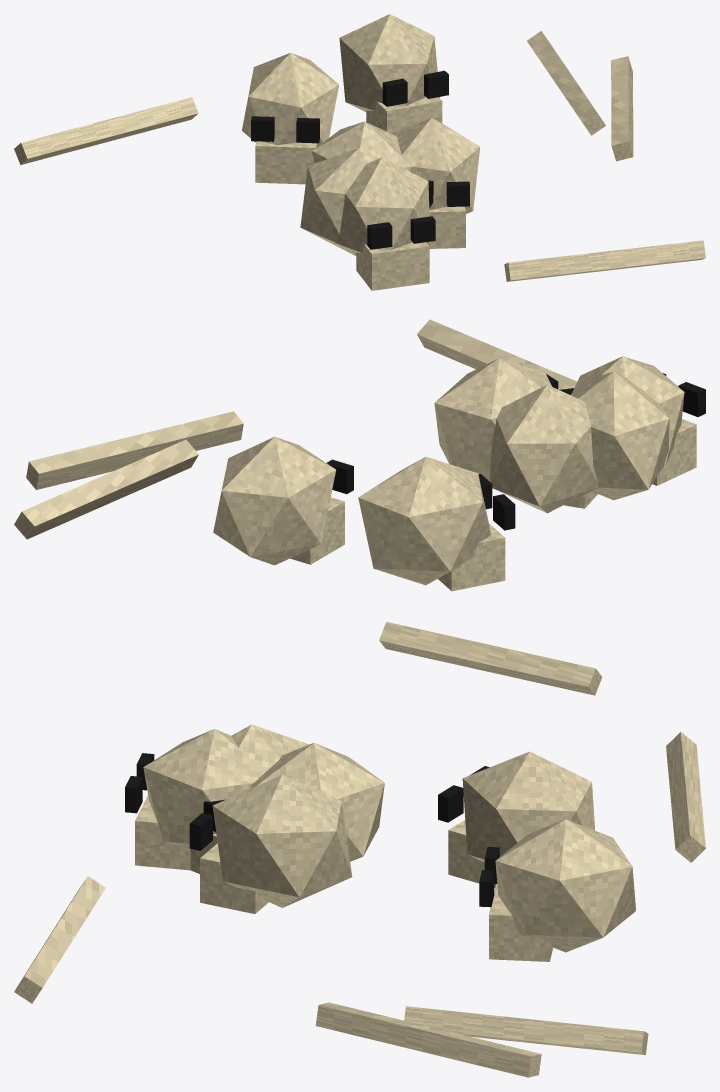
The model's file is skull_pile.glb.
The picture shows the model from 3 angles, top to bottom: view 1: azimuth 30°, elevation 25°; view 2: azimuth 150°, elevation 25°; view 3: azimuth 270°, elevation 25°; orthographic projection. The views are drawn at different scales.
Parts seen in each view (by area): view 1: skull_pile; view 2: skull_pile; view 3: skull_pile.
Boxes of the visible parts, x1,y1,x2,y2 form: skull_pile: (14, 14, 705, 290); skull_pile: (14, 319, 705, 695); skull_pile: (14, 724, 705, 1077).
Bounding box in the file's own units: 1.26 × 0.24 × 1.13.
1 material, 1 textured.
